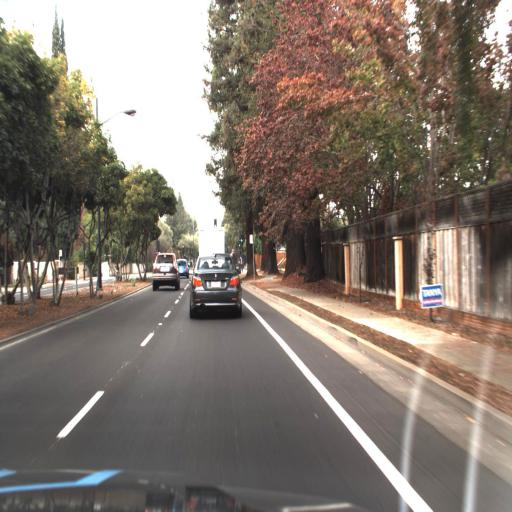car: (184, 246, 245, 324), (192, 223, 234, 263), (148, 251, 182, 293), (176, 252, 190, 283)
truck: (196, 223, 228, 284)
